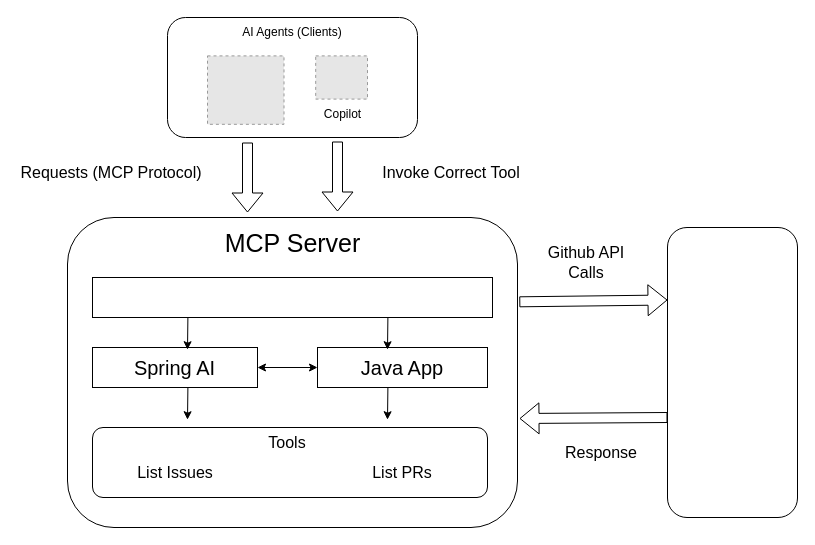
Image size: 815x545. Some labels were removed from this diagram. Grey dashed boxes stand in for pictures. Here are the shapes that lost their labels. From the top down, the centre of each, then its label:
point (292, 297): Model Context Protocol Interface
point (732, 372): Github API
